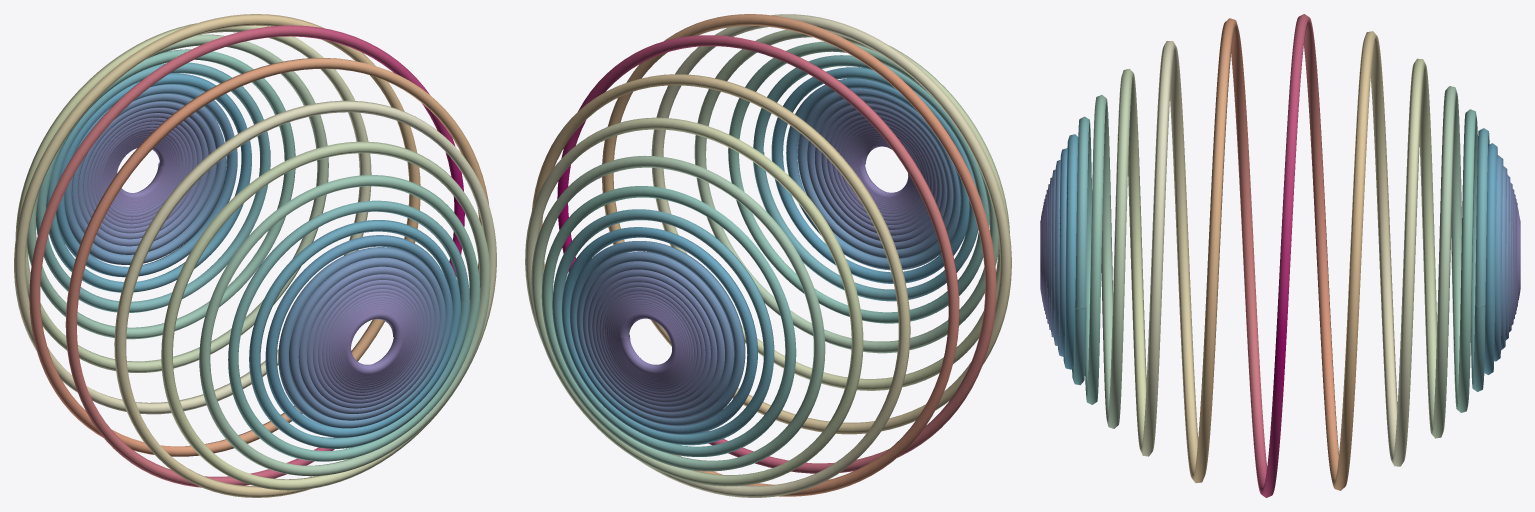
File: spherical_spiral.glb
3 views of the same model, side by side, from view 1: azimuth 30°, elevation 25°; view 2: azimuth 150°, elevation 25°; view 3: azimuth 270°, elevation 25° (orthographic).
Visible parts, largest first — view 1: Object_2; view 2: Object_2; view 3: Object_2.
Part boxes in pixels (x1,y1,x2,y2): Object_2: (14,14,496,497); Object_2: (525,14,1011,497); Object_2: (1040,14,1520,497).
Size of the model in its own units: 2.04 by 2.04 by 2.03.
